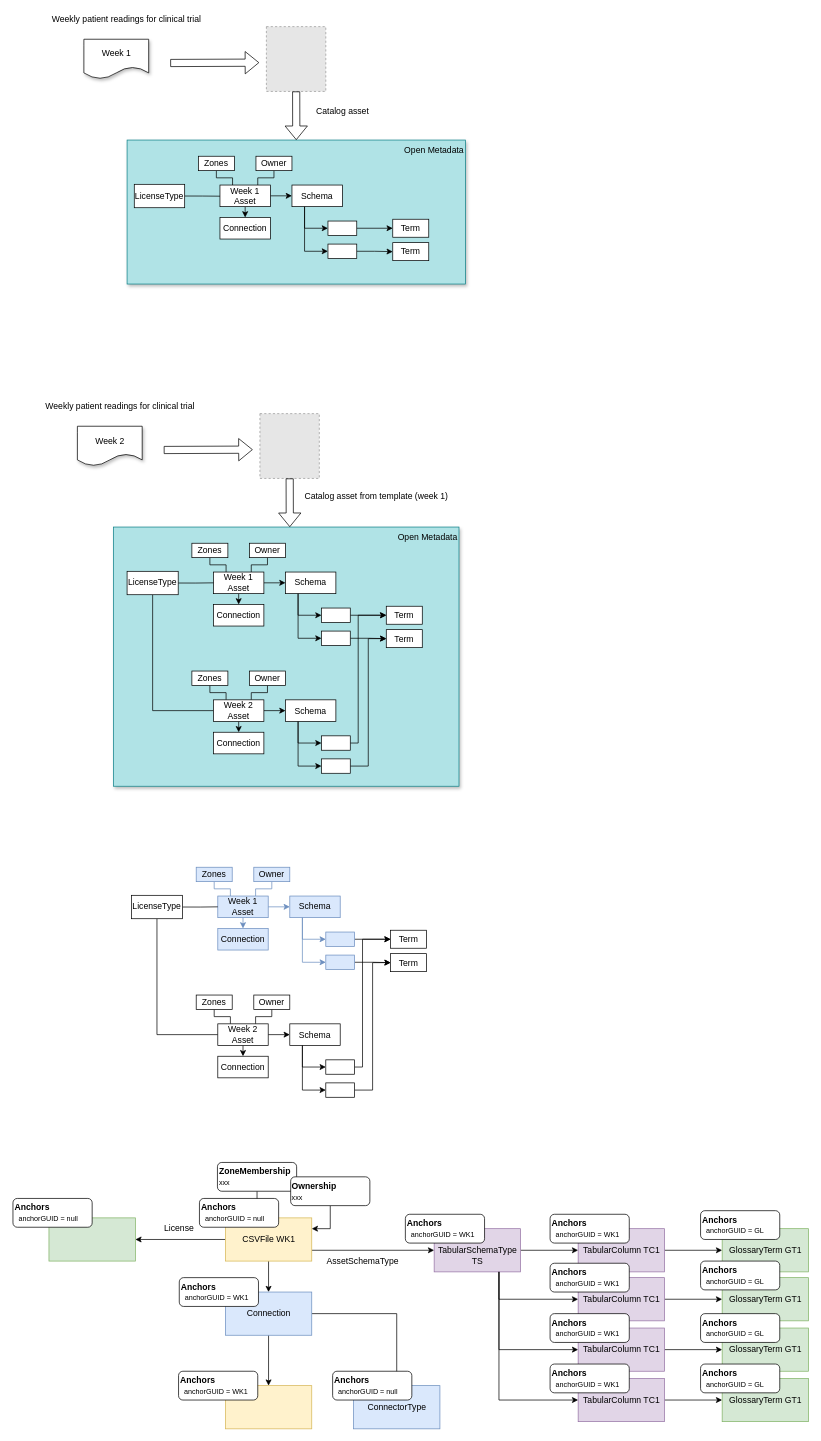
This 821x1441 diagram has some shape labels left out. Grey dashed boxes stand in for pictures. The shapes that lost their labels are listed below. From the top down, each one's centre as x and y in pixels, then its label:
At (x=91, y=1239): "LicenceType LT".
At (x=268, y=1407): "Endpoint".
